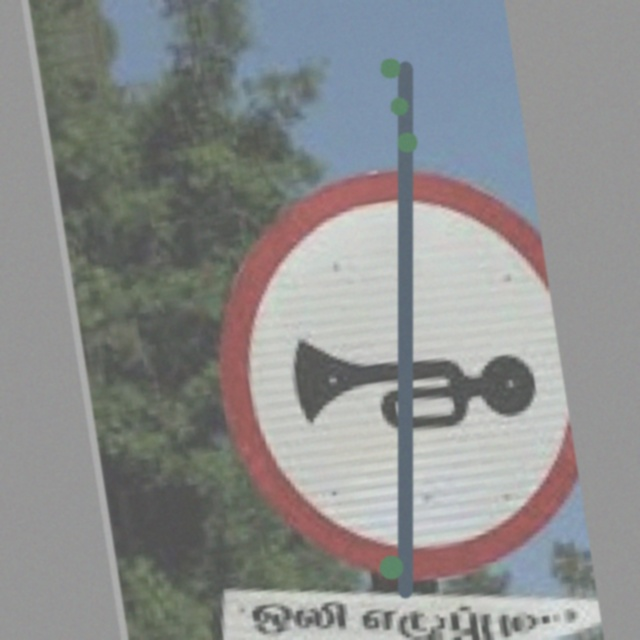Compulsory_Sound_Horn: (212, 158, 575, 556)
